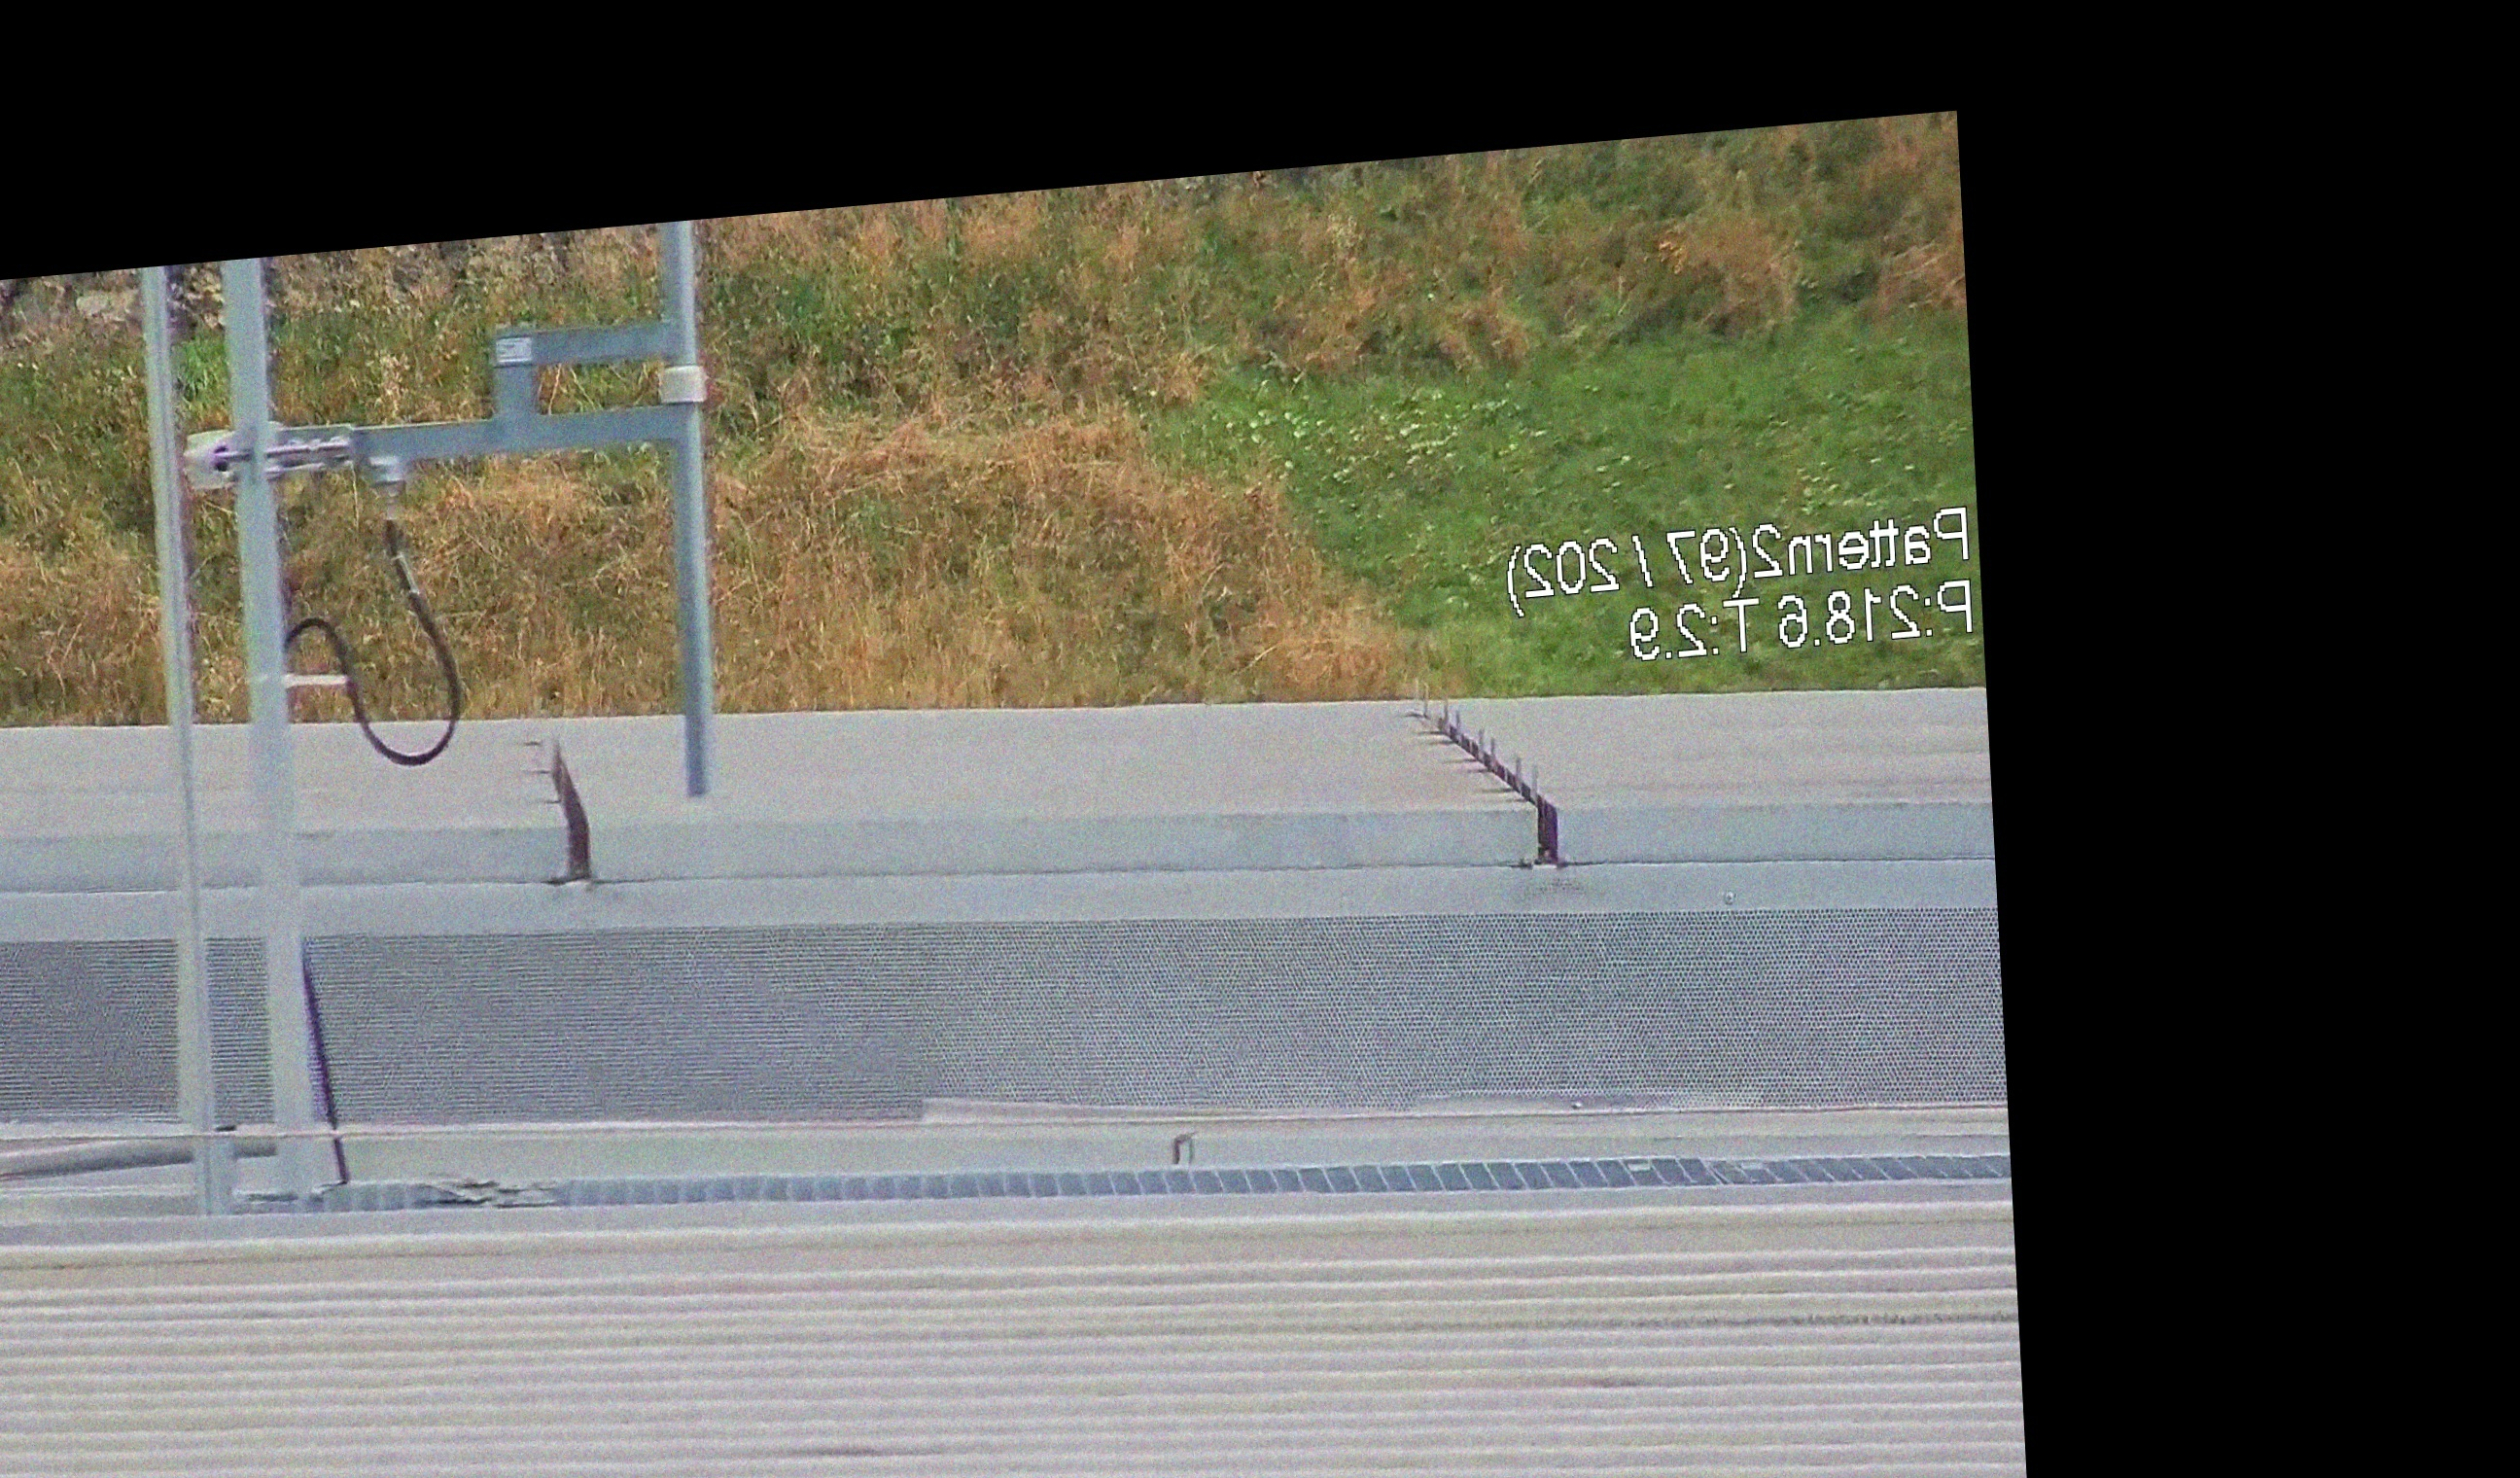Other: (513, 716, 598, 892)
